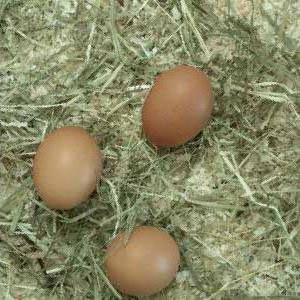egg: (142, 66, 211, 147), (33, 128, 100, 207), (105, 226, 179, 296)
